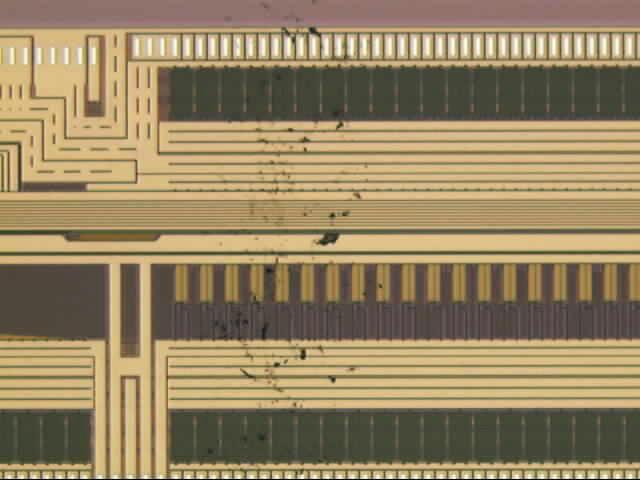PO CONTAMINATION: (202, 1, 387, 460)
